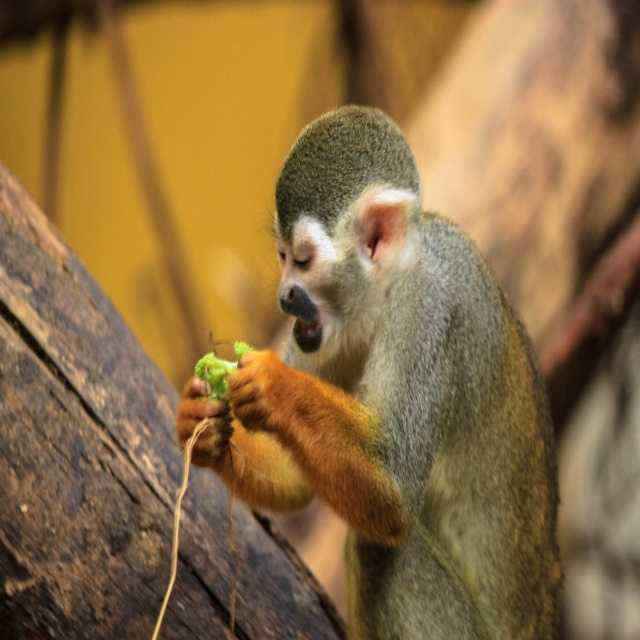Monkey: (176, 102, 565, 639)
